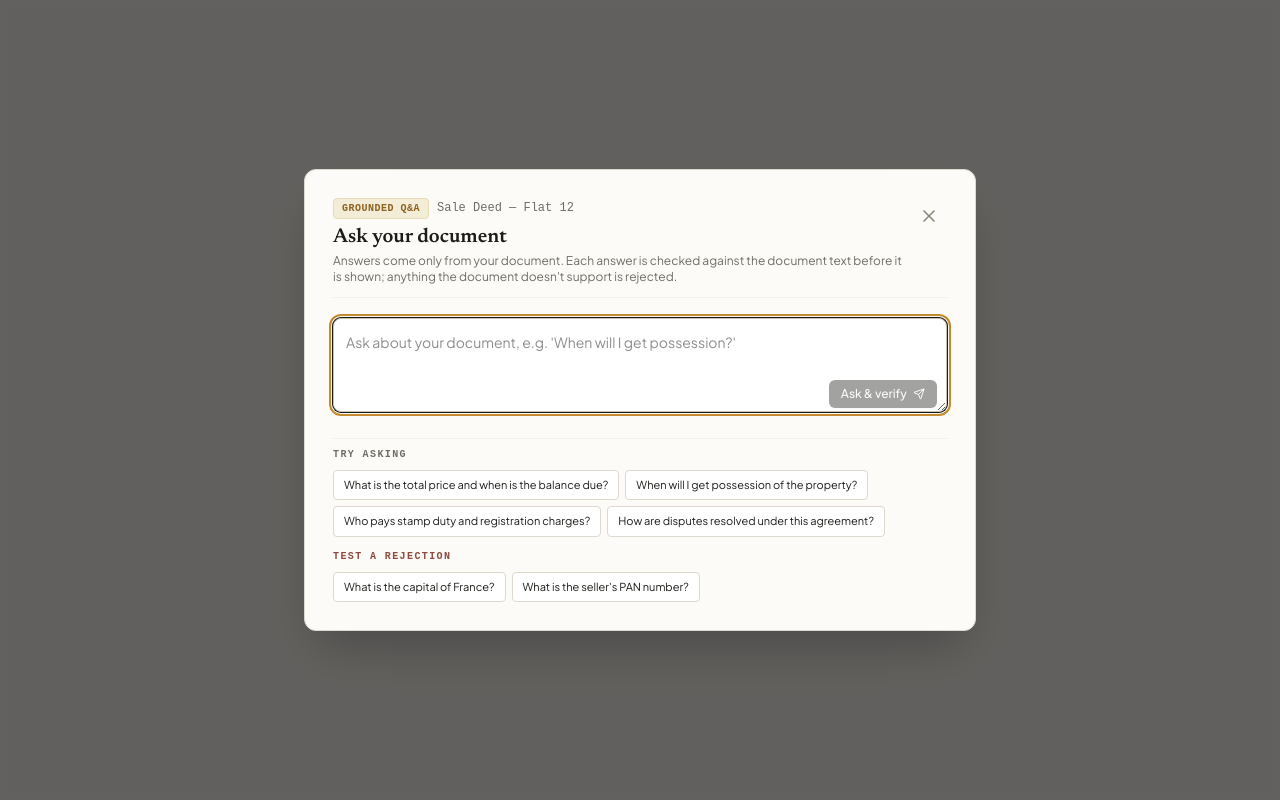
AskQuestionModal (grounded Q&A) › sends the question with the document and shows an approved, verified answer
Type "When do I get possession?" into the text box named "Your question" at (640, 365), box [333,318,947,412]
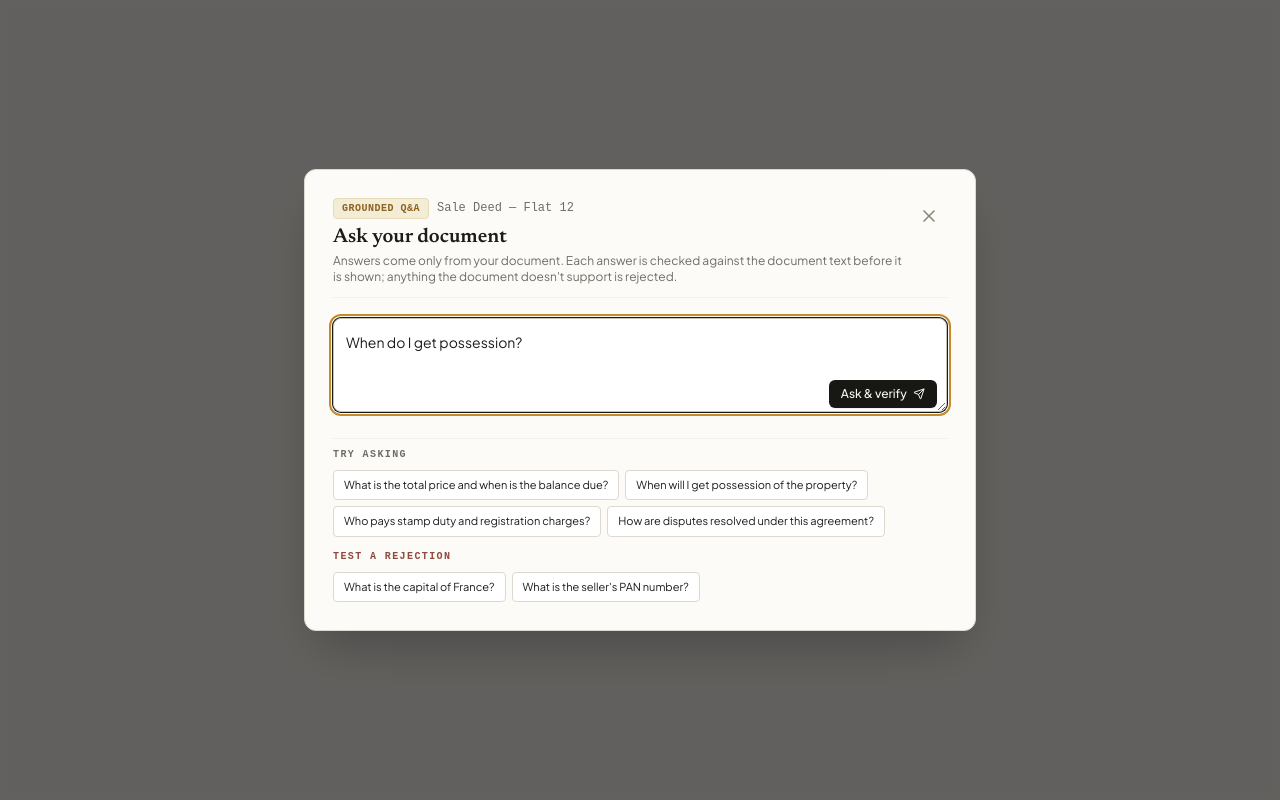
Click the button "Ask & verify" at (883, 394), box [829,380,937,408]
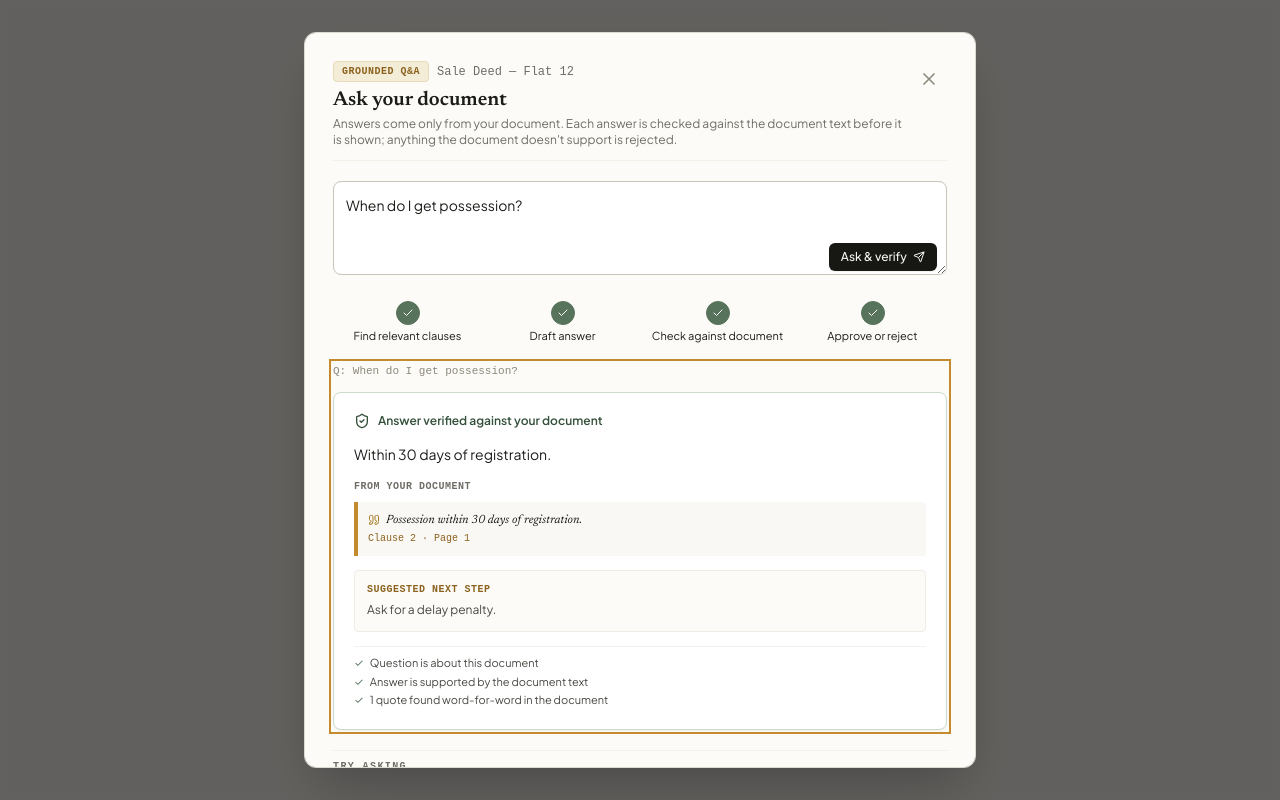
expect the element named "Approved answer" shows "Within 30 days of registration.": met, box [354,444,551,462]
expect the element named "Approved answer" shows "Clause 2 · Page 1": met, box [333,392,947,730]
expect the element named "Approved answer" shows "1 quote found word-for-word in the document": met, box [370,693,608,706]
